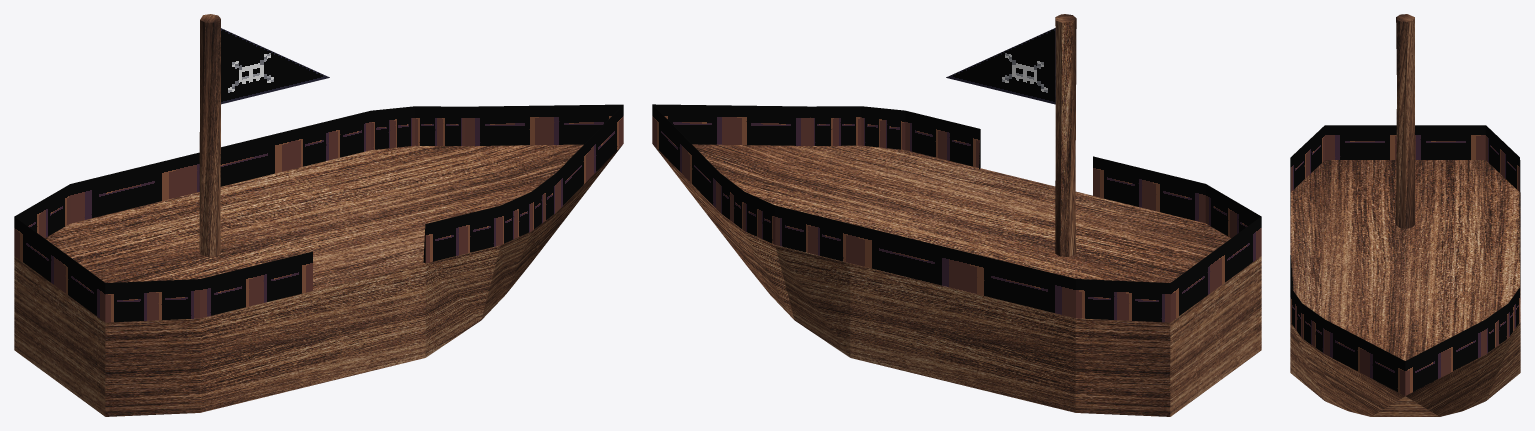
The model's file is Ship.fbx.
The picture shows the model from 3 angles, left to right: view 1: azimuth 30°, elevation 25°; view 2: azimuth 150°, elevation 25°; view 3: azimuth 270°, elevation 25°; orthographic projection. The views are drawn at different scales.
Visible parts, largest first — view 1: Cube, Plane.001, Cylinder, Plane; view 2: Cube, Plane.001, Cylinder, Plane; view 3: Cube, Plane.001, Cylinder.
Part boxes in pixels (x1=…): Cube: x1=14, y1=144, x2=622, y2=416; Plane.001: x1=14, y1=104, x2=623, y2=322; Cylinder: x1=199, y1=14, x2=220, y2=256; Plane: x1=221, y1=28, x2=329, y2=104; Cube: x1=653, y1=144, x2=1261, y2=416; Plane.001: x1=652, y1=104, x2=1261, y2=322; Cylinder: x1=1055, y1=14, x2=1076, y2=256; Plane: x1=946, y1=28, x2=1055, y2=104; Cube: x1=1290, y1=160, x2=1520, y2=416; Plane.001: x1=1290, y1=125, x2=1520, y2=395; Cylinder: x1=1396, y1=14, x2=1414, y2=228.
Bounding box in the file's own units: 1500 × 835 × 600.
4 materials, 4 textured.
